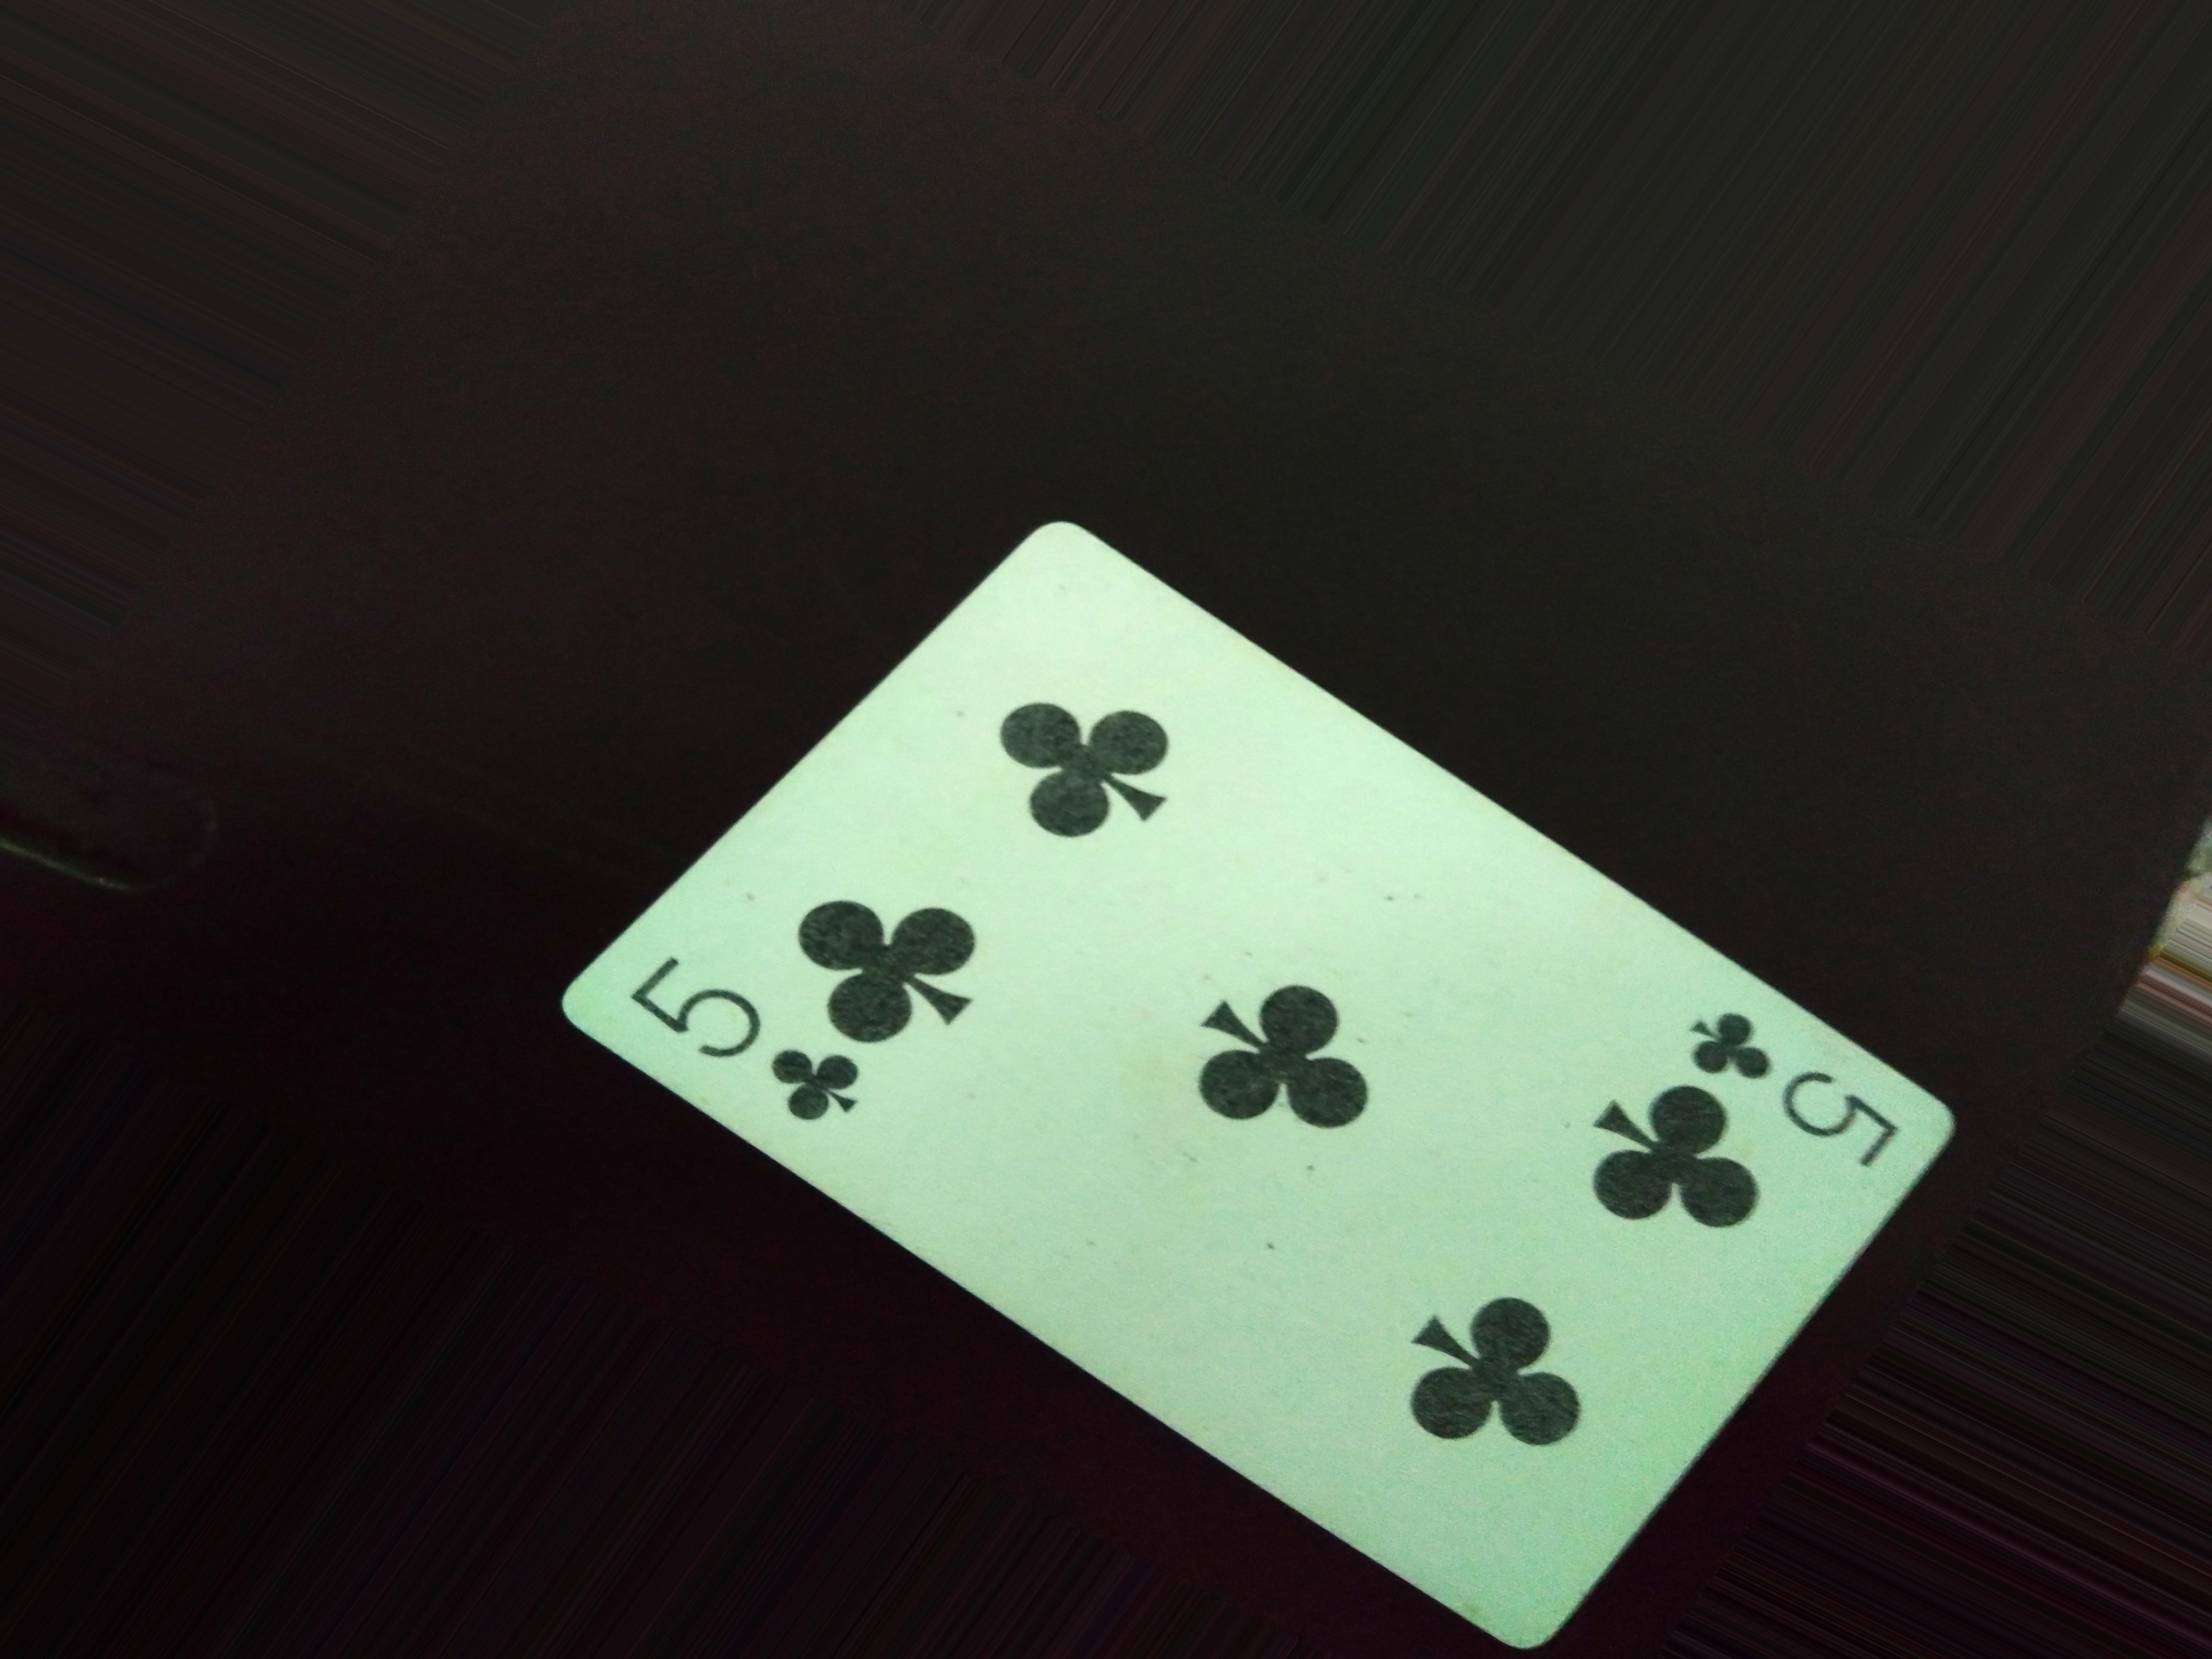5C: (1689, 995, 1914, 1199)
